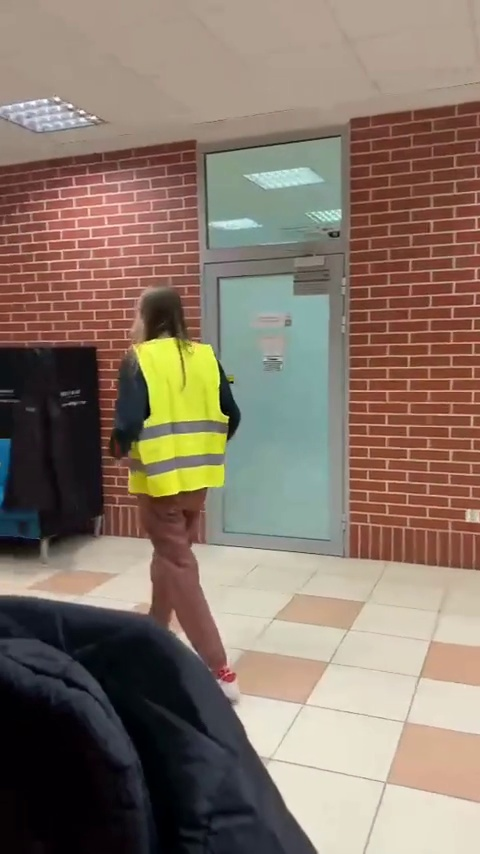vest: (106, 281, 250, 707)
